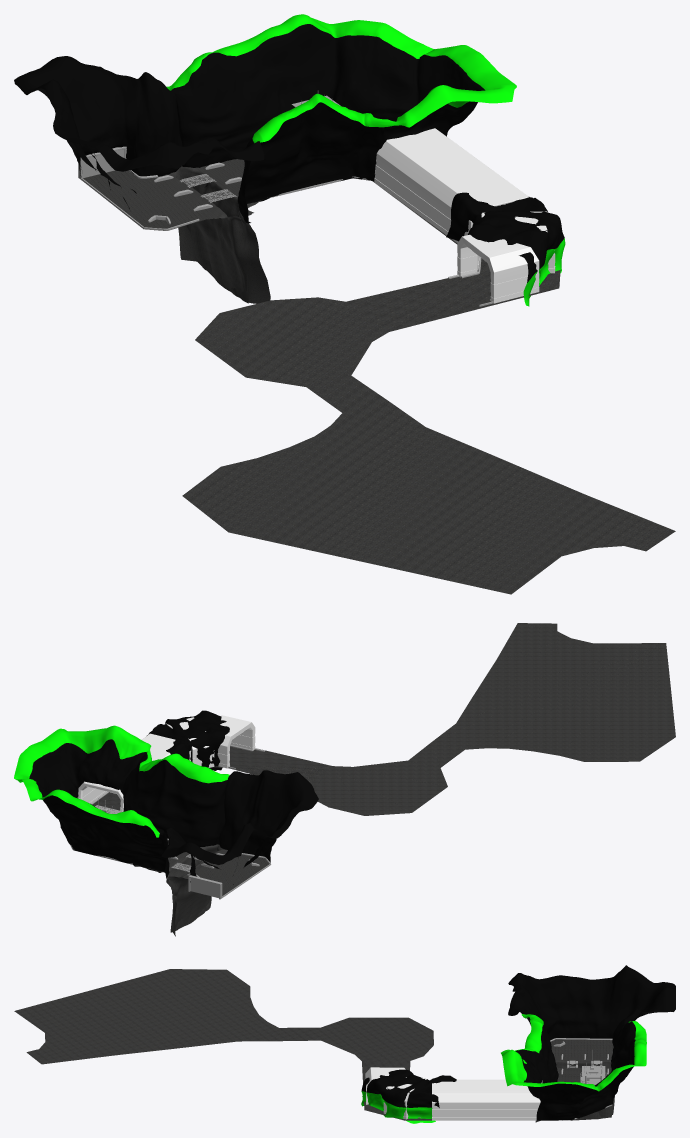
File: Dam_tot.fbx
The picture shows the model from 3 angles, top to bottom: view 1: azimuth 30°, elevation 25°; view 2: azimuth 150°, elevation 25°; view 3: azimuth 270°, elevation 25°; orthographic projection. The views are drawn at different scales.
Parts seen in each view (by area): view 1: polySurface16, polySurface11, polySurface15, pCube72, polySurface18, pCube74, polySurface17; view 2: polySurface16, polySurface11, polySurface15, polySurface18, pCube72, pCube74, polySurface17; view 3: polySurface16, polySurface11, pCube72, polySurface18, polySurface15, polySurface17, Torre1, pCube74.
Boxes of the visible parts, left/top/right/bottom form: polySurface16: left=182, top=178, right=675, bottom=594; polySurface11: left=14, top=14, right=516, bottom=223; polySurface15: left=81, top=168, right=270, bottom=303; pCube72: left=374, top=128, right=528, bottom=242; polySurface18: left=446, top=192, right=565, bottom=306; pCube74: left=457, top=234, right=539, bottom=303; polySurface17: left=178, top=159, right=260, bottom=303; polySurface16: left=92, top=623, right=675, bottom=815; polySurface11: left=14, top=725, right=318, bottom=884; polySurface15: left=166, top=845, right=268, bottom=932; polySurface18: left=147, top=710, right=229, bottom=770; pCube72: left=77, top=733, right=190, bottom=812; pCube74: left=217, top=715, right=255, bottom=768; polySurface17: left=134, top=840, right=218, bottom=936; polySurface16: left=14, top=969, right=433, bottom=1120; polySurface11: left=501, top=965, right=675, bottom=1120; pCube72: left=432, top=1079, right=542, bottom=1120; polySurface18: left=361, top=1069, right=456, bottom=1123; polySurface15: left=535, top=1039, right=613, bottom=1122; polySurface17: left=556, top=1067, right=614, bottom=1120; Torre1: left=580, top=1050, right=605, bottom=1084; pCube74: left=365, top=1067, right=405, bottom=1104.
Size of the model in its own units: 32.54 by 10.86 by 54.58.
